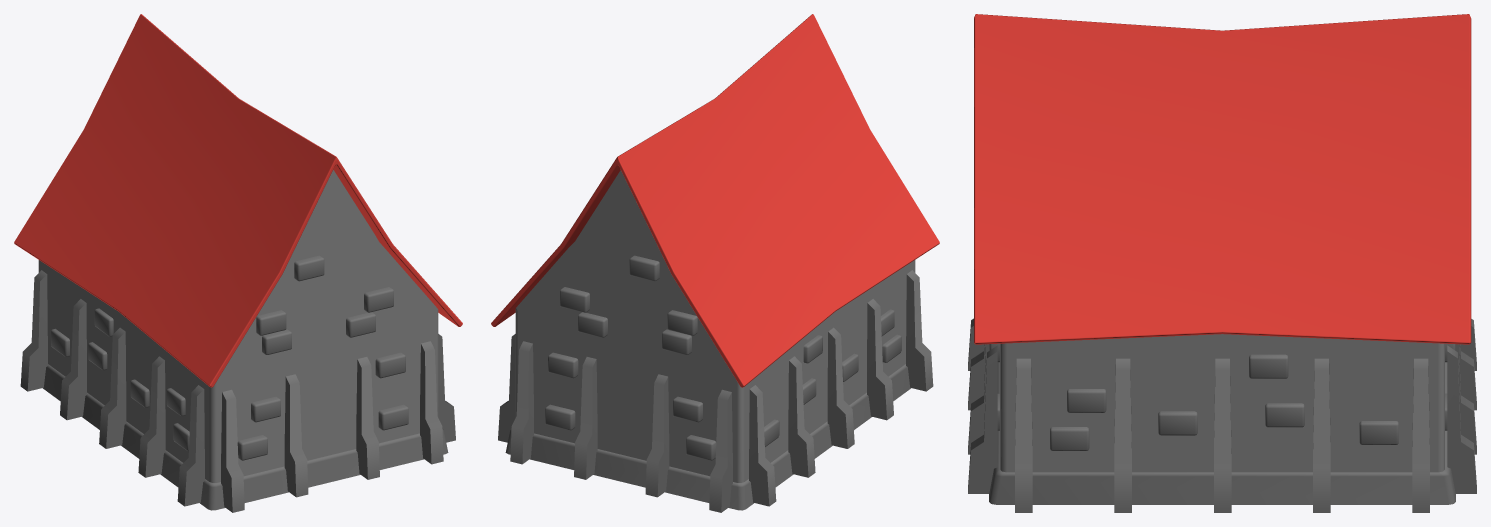
The model's file is Building.fbx.
The picture shows the model from 3 angles, left to right: view 1: azimuth 30°, elevation 25°; view 2: azimuth 150°, elevation 25°; view 3: azimuth 270°, elevation 25°; orthographic projection. The views are drawn at different scales.
Visible parts, largest first — view 1: Building.001_0; view 2: Building.001_0; view 3: Building.001_0.
Part boxes in pixels (box(x1,y1,x2,y2)): Building.001_0: box(14, 14, 462, 512); Building.001_0: box(491, 14, 939, 512); Building.001_0: box(968, 14, 1476, 512).
Bounding box in the file's own units: 6.22 × 7.21 × 7.98.
